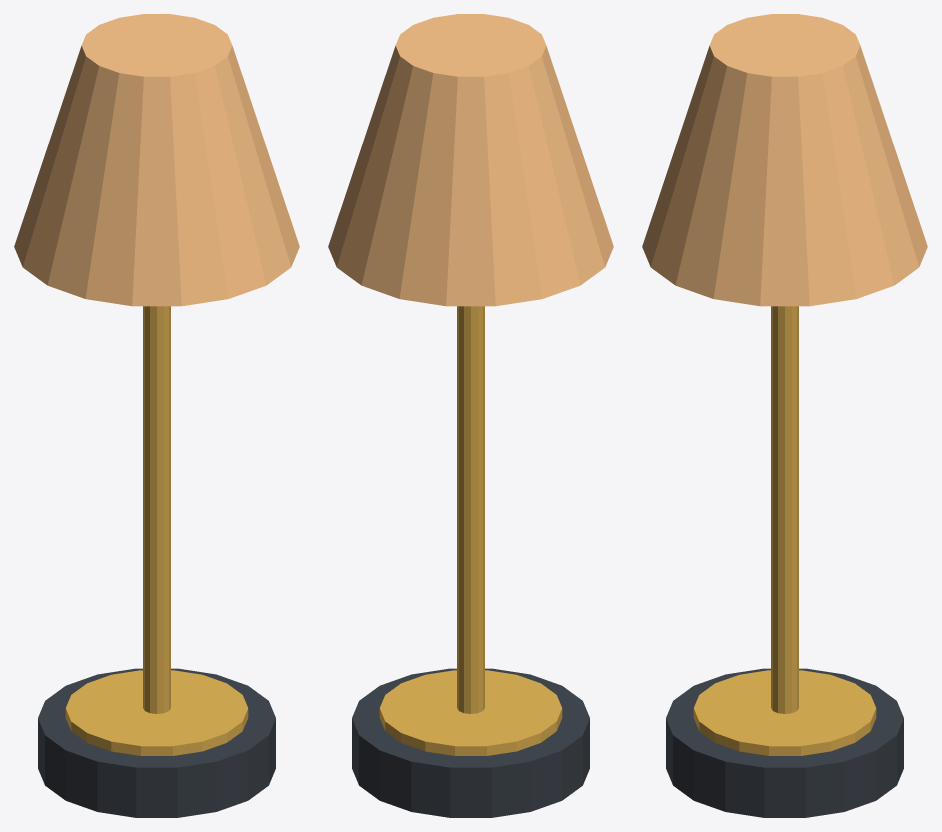
File: FloorLamp.fbx
3 renders of one model, left to right at view 1: azimuth 30°, elevation 25°; view 2: azimuth 150°, elevation 25°; view 3: azimuth 270°, elevation 25°, orthographic.
Visible parts, largest first — view 1: Lamp_Shade, Lamp_Base, Lamp_Base_Rim, Lamp_Stem; view 2: Lamp_Shade, Lamp_Base, Lamp_Base_Rim, Lamp_Stem; view 3: Lamp_Shade, Lamp_Base, Lamp_Base_Rim, Lamp_Stem.
Part boxes in pixels (x1=…): Lamp_Shade: x1=14, y1=14, x2=299, y2=306; Lamp_Base: x1=38, y1=668, x2=275, y2=817; Lamp_Base_Rim: x1=65, y1=670, x2=248, y2=755; Lamp_Stem: x1=143, y1=306, x2=170, y2=713; Lamp_Shade: x1=328, y1=14, x2=613, y2=306; Lamp_Base: x1=352, y1=668, x2=589, y2=817; Lamp_Base_Rim: x1=379, y1=670, x2=562, y2=755; Lamp_Stem: x1=457, y1=306, x2=484, y2=713; Lamp_Shade: x1=642, y1=14, x2=927, y2=306; Lamp_Base: x1=666, y1=668, x2=903, y2=817; Lamp_Base_Rim: x1=693, y1=670, x2=876, y2=755; Lamp_Stem: x1=771, y1=306, x2=798, y2=713.
Size of the model in its own units: 70.91 by 201 by 72.
